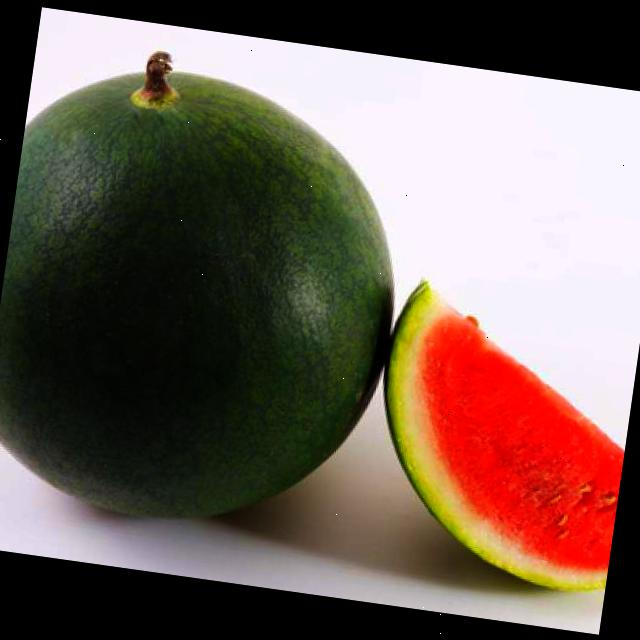watermelon: (0, 48, 423, 548), (356, 271, 640, 597)
